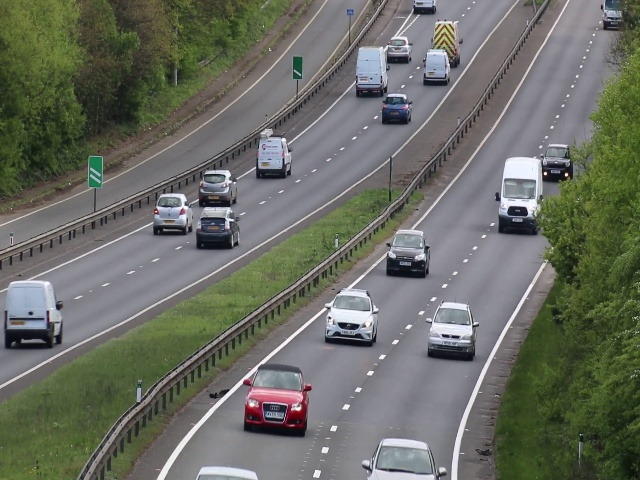car: (3, 278, 66, 353), (246, 362, 308, 438), (495, 153, 541, 235), (424, 297, 479, 359), (327, 287, 378, 349), (366, 438, 436, 480), (382, 224, 431, 281), (195, 206, 241, 253), (149, 189, 194, 233), (353, 44, 388, 98), (254, 133, 293, 180), (197, 169, 238, 208), (430, 20, 461, 68), (540, 142, 571, 183), (422, 46, 451, 88), (380, 95, 412, 126), (387, 36, 412, 66)
